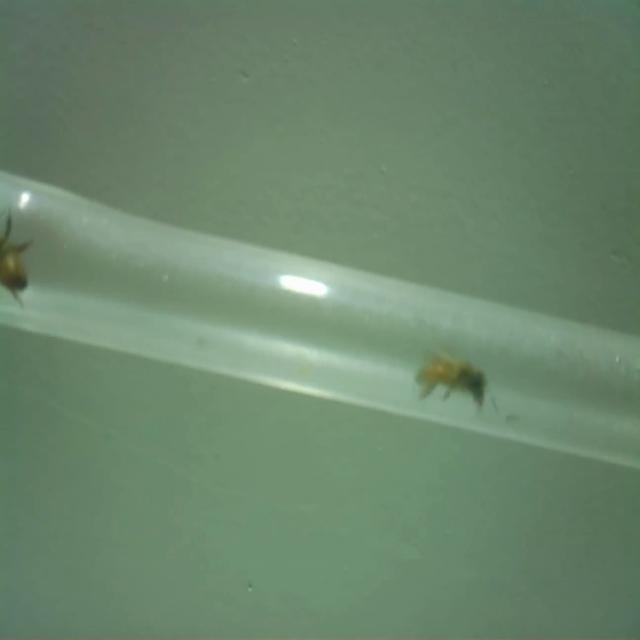Honeybee-Detection: (414, 349, 498, 412), (0, 209, 33, 306)
